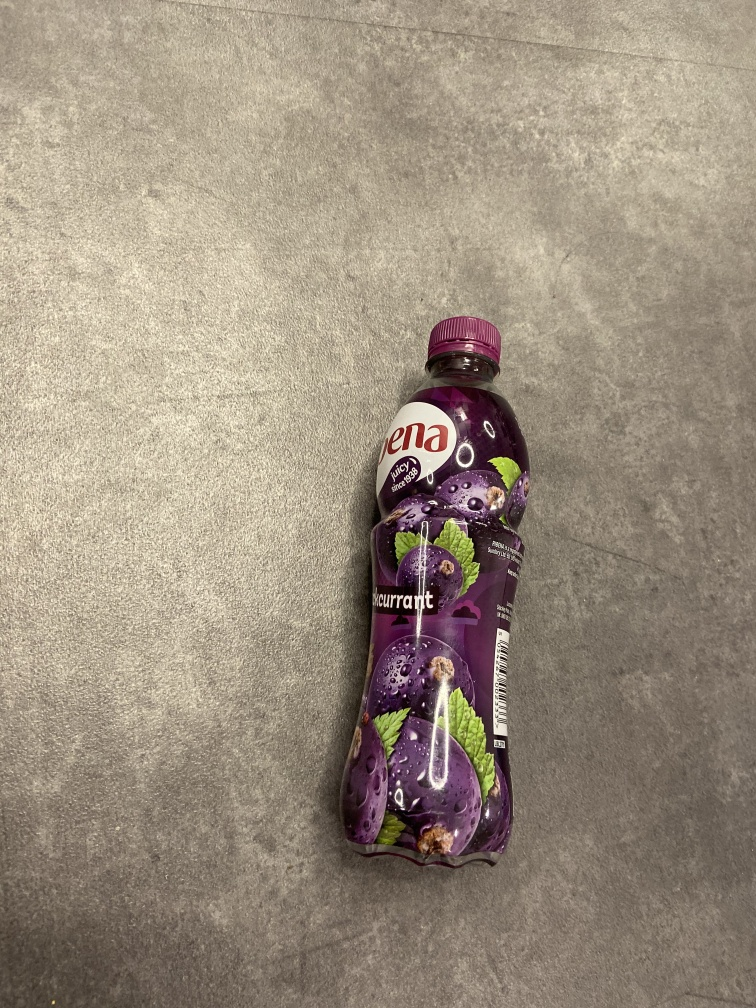bottle_purple: (331, 309, 536, 884)
